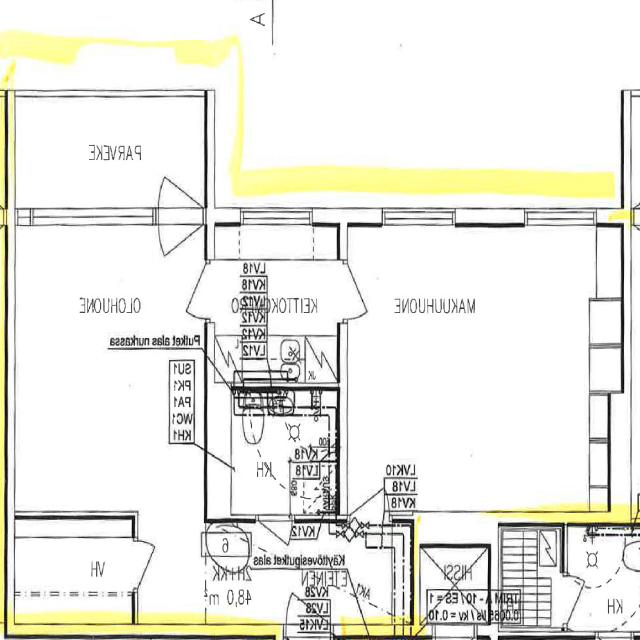door: (158, 146, 202, 225), (158, 207, 202, 286), (286, 562, 330, 638), (337, 263, 388, 319), (165, 263, 215, 319), (350, 458, 390, 523), (258, 515, 292, 570), (132, 541, 170, 588)
